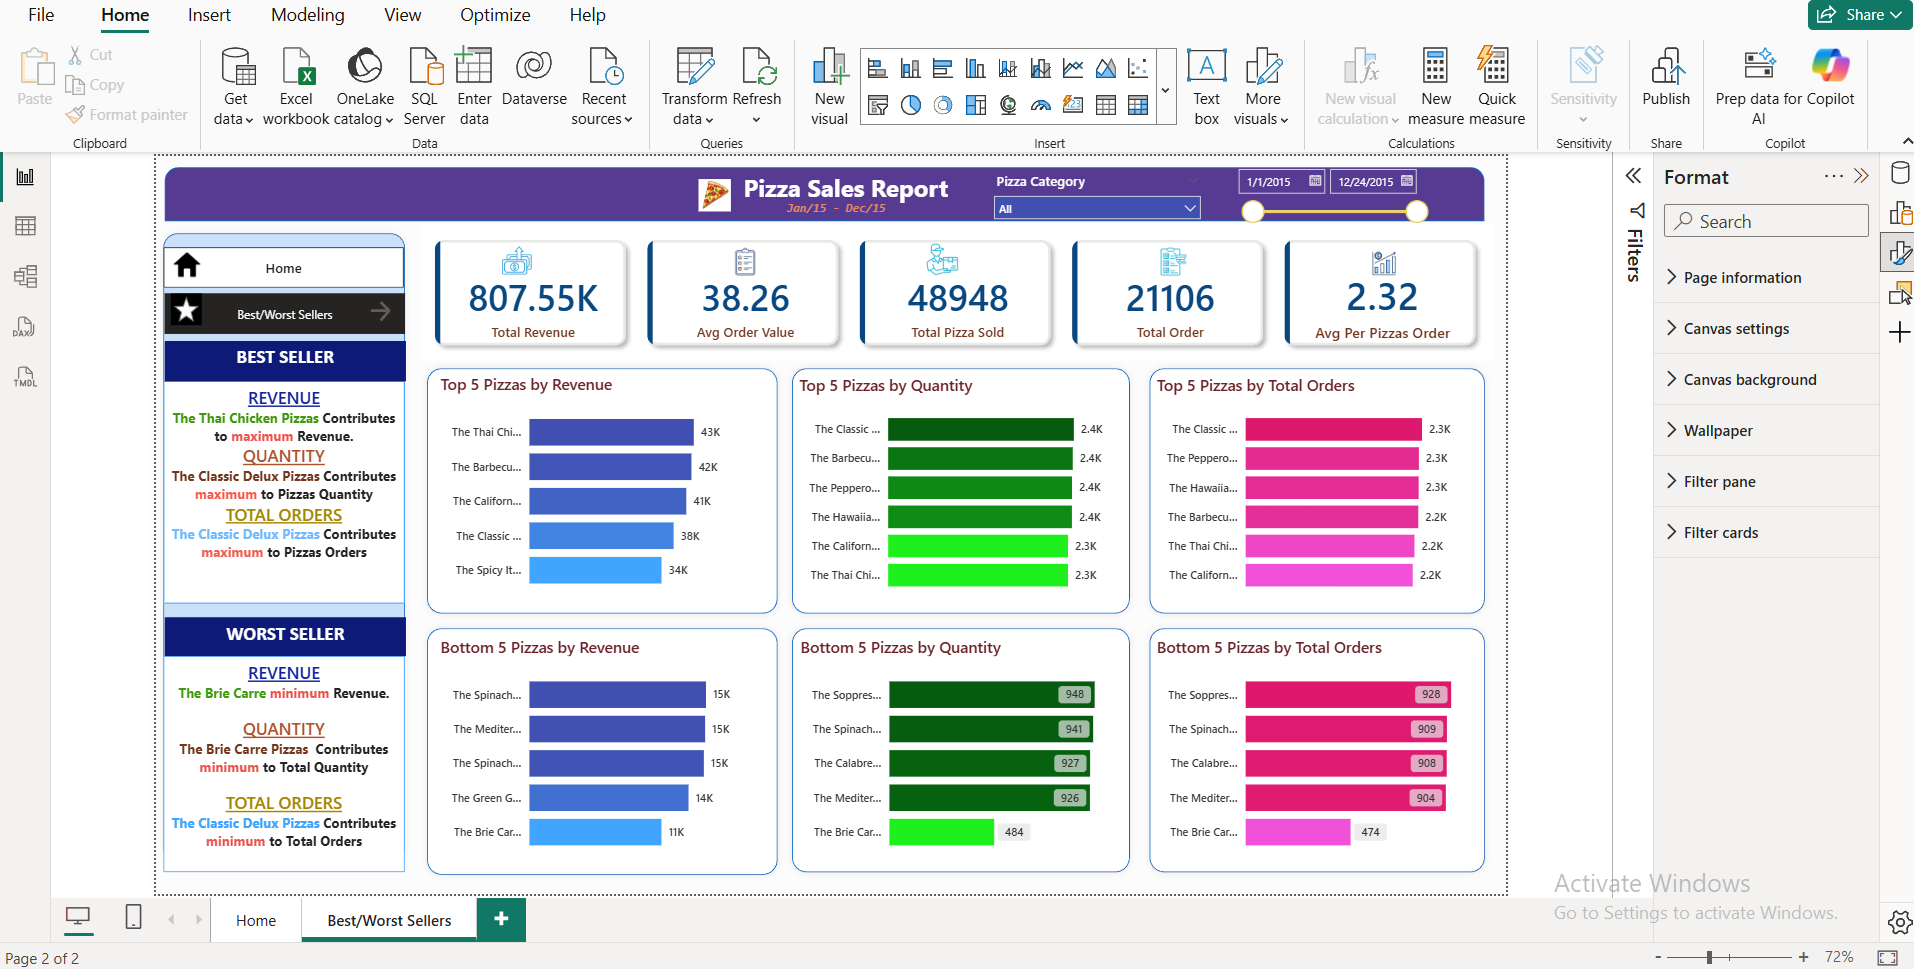

What the dashboard file says about the page in this screenshot:
{"tool":"powerbi","page":{"name":"Best/Worst Sellers","canvas":[1500,820],"ordinal":1},"visuals":[{"type":"shape","box":[0,77.8,284.7,715.3],"z":0},{"type":"textbox","box":[8.3,250,268.1,247.2],"z":1000},{"type":"textbox","box":[9.7,205.6,268.1,44.4],"z":2000},{"type":"cardVisual","fields":{"Data":["pizza_sales.Total Revenue","pizza_sales.Avg Order Value","pizza_sales.Total Pizza Sold","pizza_sales.Total Order","pizza_sales.Avg Per Pizzas Order"]},"box":[292.7,76.8,1193.9,151.2],"z":3000},{"type":"image","box":[380.2,97.5,40.4,37.6],"z":4000},{"type":"image","box":[635.1,101.7,40.4,32],"z":5000},{"type":"image","box":[855.1,93.3,36.2,43.2],"z":6000},{"type":"image","box":[1114.1,101.7,33.4,32],"z":7000},{"type":"image","box":[1350.9,101.7,26.5,36.2],"z":8000},{"type":"shape","box":[10,12.5,1466.2,60],"z":9000},{"type":"textbox","box":[621.1,12.5,291.1,46],"z":10000},{"type":"textbox","box":[675.4,43.2,161.5,29.2],"z":11000},{"type":"textbox","box":[8.3,555.6,268.1,240.3],"z":12000},{"type":"image","box":[603,20.9,36.2,46],"z":13000},{"type":"shape","box":[293,228.2,405.6,288.7],"z":14000},{"type":"textbox","box":[9.7,512.5,268.1,43.1],"z":15000},{"type":"slicer","fields":{"Values":["pizza_sales.pizza_category"]},"box":[921.4,13.1,250,59.5],"z":16000},{"type":"slicer","fields":{"Values":["pizza_sales.order_date"]},"box":[1190.6,3.5,235.3,72.9],"z":17000},{"type":"shape","box":[698.6,228.2,391.5,288.7],"z":18000},{"type":"shape","box":[1095.8,228.2,388.7,288.7],"z":19000},{"type":"shape","box":[293,516.9,405.6,290.1],"z":20000},{"type":"shape","box":[698.6,516.9,391.5,287.3],"z":21000},{"type":"shape","box":[1095.8,516.9,388.7,287.3],"z":22000},{"type":"barChart","title":"Top 5 Pizzas by Revenue","fields":{"Category":["pizza_sales.pizza_name"],"Y":["pizza_sales.Total Revenue"]},"box":[311.3,242.3,364.8,254.9],"z":23000},{"type":"barChart","title":"Bottom 5 Pizzas by Revenue","fields":{"Category":["pizza_sales.pizza_name"],"Y":["pizza_sales.Total Revenue"]},"box":[311.1,533.3,365.3,254.2],"z":24000},{"type":"barChart","title":"Top 5 Pizzas by Quantity","fields":{"Category":["pizza_sales.pizza_name"],"Y":["pizza_sales.Total Pizza Sold"]},"box":[709.7,243.1,365.3,254.2],"z":25000},{"type":"barChart","title":"Bottom 5 Pizzas by Quantity","fields":{"Category":["pizza_sales.pizza_name"],"Y":["pizza_sales.Total Pizza Sold"]},"box":[711.1,533.3,365.3,254.2],"z":26000},{"type":"barChart","title":"Top 5 Pizzas by Total Orders","fields":{"Category":["pizza_sales.pizza_name"],"Y":["pizza_sales.Total Order"]},"box":[1106.9,243.1,365.3,254.2],"z":27000},{"type":"barChart","title":"Bottom 5 Pizzas by Total Orders","fields":{"Category":["pizza_sales.pizza_name"],"Y":["pizza_sales.Total Order"]},"box":[1106.9,533.3,365.3,254.2],"z":28000},{"type":"pageNavigator","box":[10,152.5,267.5,45],"z":28001},{"type":"pageNavigator","box":[8.8,101.2,267.5,45],"z":28002},{"type":"actionButton","box":[233.8,156.2,33.8,31.2],"z":28003},{"type":"image","box":[17.5,105,32.5,30],"z":28004},{"type":"image","box":[12.5,152.5,42.5,35],"z":28005}]}

Visuals, with their boxes on the page's 1500x820 design canvas (x1, y1, x2, y2). These are canvas units, not pixel positions in the 1914x969 screenshot, which may show the page scaled, cropped or inside an application window:
shape: [x1=0, y1=78, x2=285, y2=793]
textbox: [x1=8, y1=250, x2=276, y2=497]
textbox: [x1=10, y1=206, x2=278, y2=250]
cardVisual - pizza_sales.Total Revenue x pizza_sales.Avg Order Value: [x1=293, y1=77, x2=1487, y2=228]
image: [x1=380, y1=98, x2=421, y2=135]
image: [x1=635, y1=102, x2=676, y2=134]
image: [x1=855, y1=93, x2=891, y2=136]
image: [x1=1114, y1=102, x2=1148, y2=134]
image: [x1=1351, y1=102, x2=1377, y2=138]
shape: [x1=10, y1=12, x2=1476, y2=72]
textbox: [x1=621, y1=12, x2=912, y2=58]
textbox: [x1=675, y1=43, x2=837, y2=72]
textbox: [x1=8, y1=556, x2=276, y2=796]
image: [x1=603, y1=21, x2=639, y2=67]
shape: [x1=293, y1=228, x2=699, y2=517]
textbox: [x1=10, y1=512, x2=278, y2=556]
slicer - pizza_sales.pizza_category: [x1=921, y1=13, x2=1171, y2=73]
slicer - pizza_sales.order_date: [x1=1191, y1=4, x2=1426, y2=76]
shape: [x1=699, y1=228, x2=1090, y2=517]
shape: [x1=1096, y1=228, x2=1484, y2=517]
shape: [x1=293, y1=517, x2=699, y2=807]
shape: [x1=699, y1=517, x2=1090, y2=804]
shape: [x1=1096, y1=517, x2=1484, y2=804]
"Top 5 Pizzas by Revenue" barChart: [x1=311, y1=242, x2=676, y2=497]
"Bottom 5 Pizzas by Revenue" barChart: [x1=311, y1=533, x2=676, y2=788]
"Top 5 Pizzas by Quantity" barChart: [x1=710, y1=243, x2=1075, y2=497]
"Bottom 5 Pizzas by Quantity" barChart: [x1=711, y1=533, x2=1076, y2=788]
"Top 5 Pizzas by Total Orders" barChart: [x1=1107, y1=243, x2=1472, y2=497]
"Bottom 5 Pizzas by Total Orders" barChart: [x1=1107, y1=533, x2=1472, y2=788]
pageNavigator: [x1=10, y1=152, x2=278, y2=198]
pageNavigator: [x1=9, y1=101, x2=276, y2=146]
actionButton: [x1=234, y1=156, x2=268, y2=187]
image: [x1=18, y1=105, x2=50, y2=135]
image: [x1=12, y1=152, x2=55, y2=188]
